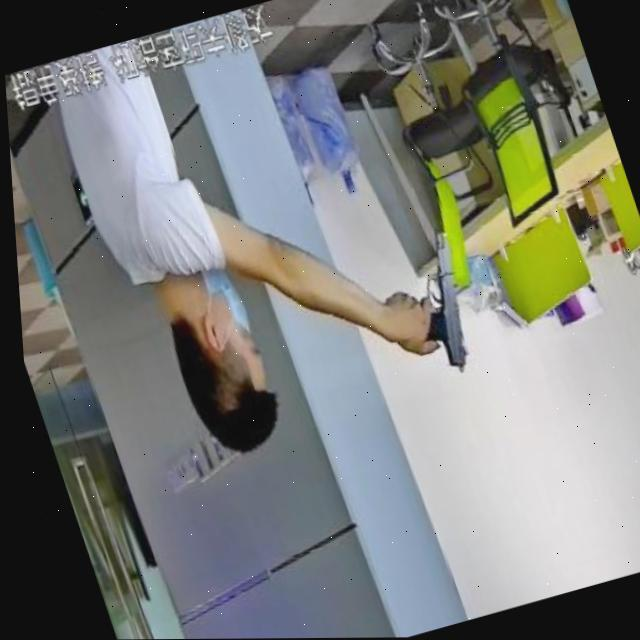gun: (352, 200, 508, 415)
